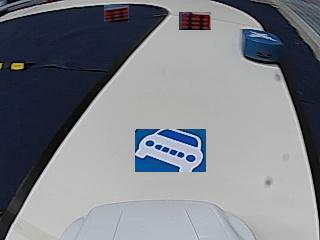prop: (243, 28, 281, 64)
